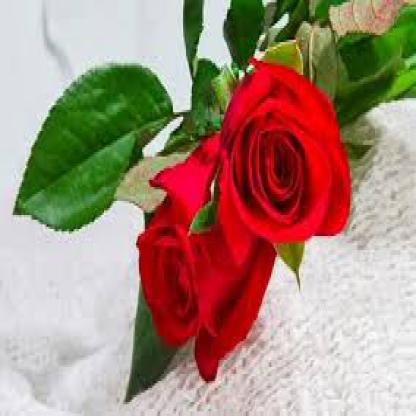Rose-Mawar: (133, 55, 351, 380)
